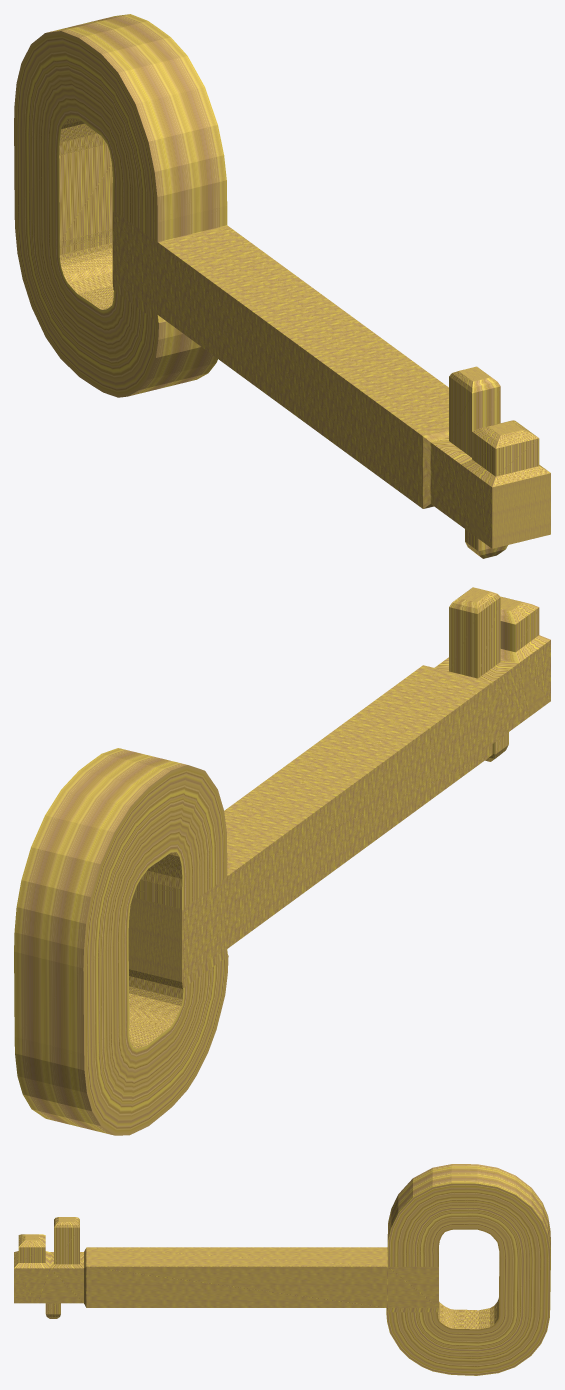
Rendered from llave1.fbx.
The picture shows the model from 3 angles, top to bottom: view 1: azimuth 30°, elevation 25°; view 2: azimuth 150°, elevation 25°; view 3: azimuth 270°, elevation 25°; orthographic projection. The views are drawn at different scales.
Visible parts, largest first — view 1: key1:Mesh; view 2: key1:Mesh; view 3: key1:Mesh.
Part boxes in pixels (x1=…): key1:Mesh: x1=14, y1=14, x2=550, y2=558; key1:Mesh: x1=14, y1=587, x2=550, y2=1135; key1:Mesh: x1=14, y1=1164, x2=550, y2=1375.
Size of the model in its own units: 0.1625 by 0.7581 by 1.92.
Materials: 1 (1 with a texture image).
